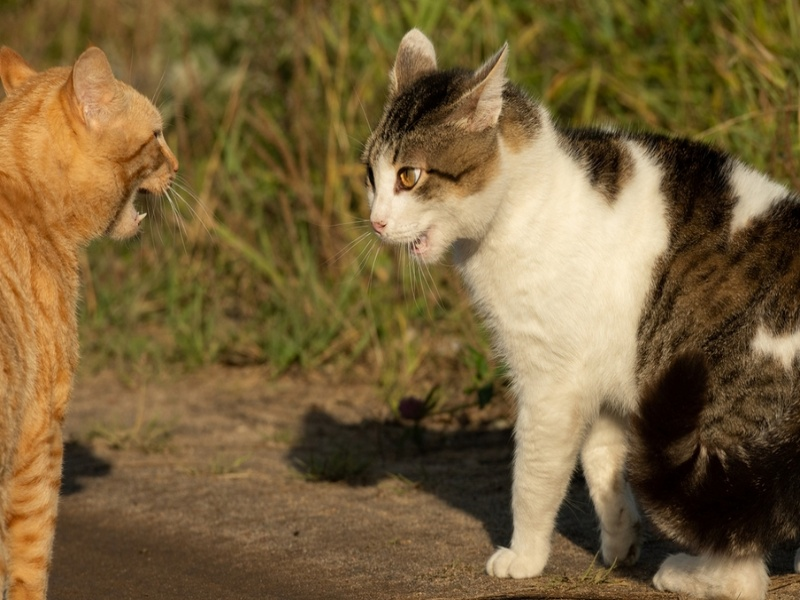cat: (354, 28, 797, 600), (3, 44, 182, 600)
